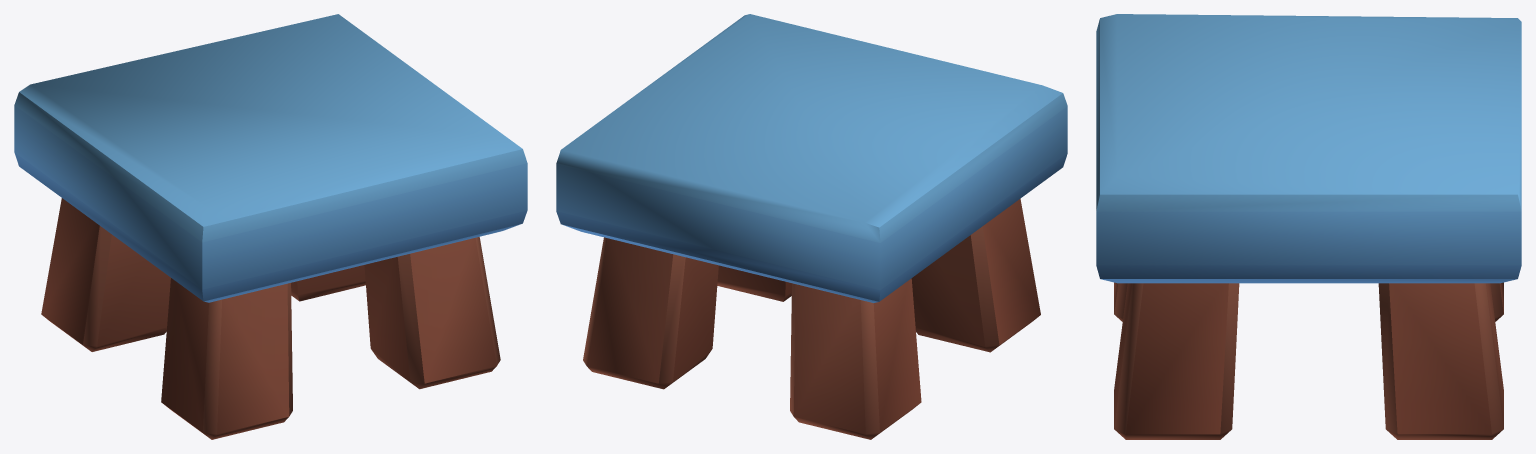
The model's file is cc0-chair-stool-lod1.glb.
3 renders of one model, left to right at view 1: azimuth 30°, elevation 25°; view 2: azimuth 150°, elevation 25°; view 3: azimuth 270°, elevation 25°, orthographic. The views are drawn at different scales.
Parts seen in each view (by area): view 1: part_0; view 2: part_0; view 3: part_0.
Part boxes in pixels (box(x1,y1,x2,y2)): part_0: box(14, 14, 527, 439); part_0: box(556, 14, 1067, 439); part_0: box(1096, 14, 1521, 439).
Size of the model in its own units: 0.7207 by 0.5 by 0.7207.
Materials: 1 (1 with a texture image).
